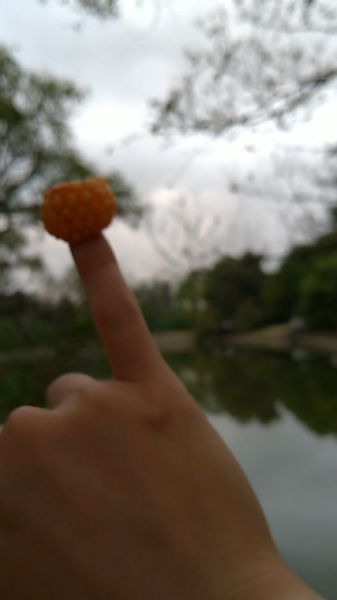eggs: (42, 178, 114, 240)
